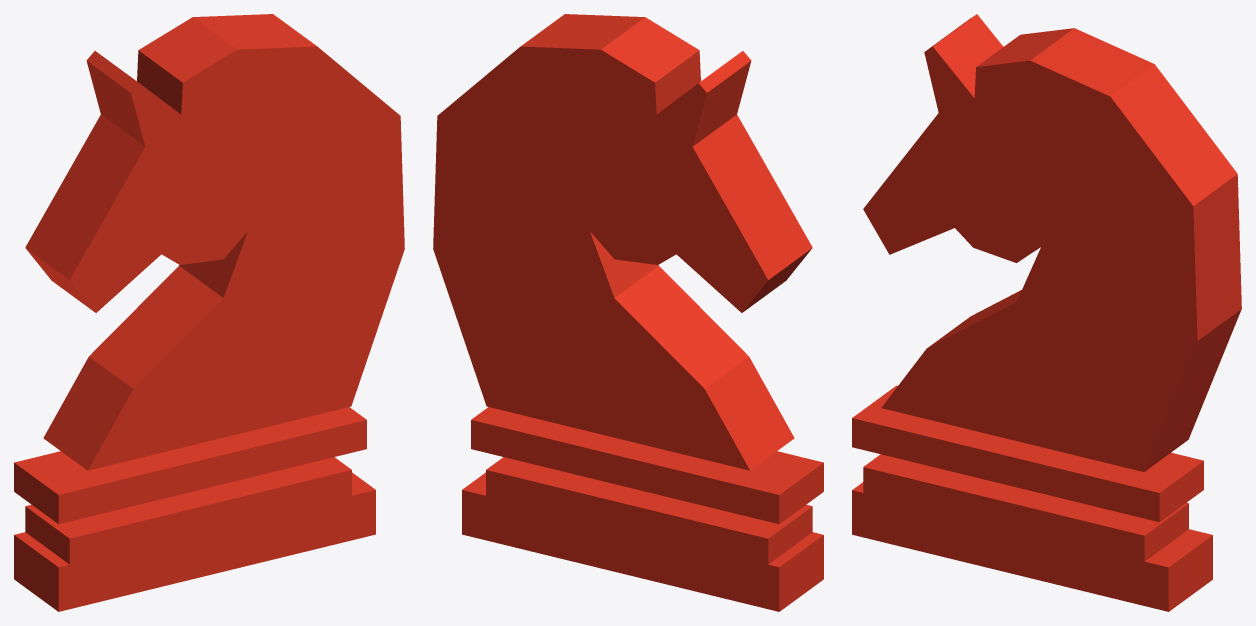
The model's file is Icon_Chess_03.fbx.
3 renders of one model, left to right at view 1: azimuth 30°, elevation 25°; view 2: azimuth 150°, elevation 25°; view 3: azimuth 330°, elevation 25°, orthographic.
Parts seen in each view (by area): view 1: Icon_Chess_03; view 2: Icon_Chess_03; view 3: Icon_Chess_03.
Part boxes in pixels (x1,y1,x2,y2): Icon_Chess_03: [14, 14, 404, 611]; Icon_Chess_03: [433, 14, 823, 611]; Icon_Chess_03: [852, 14, 1241, 611].
Size of the model in its own units: 54.26 by 77.69 by 12.06.
